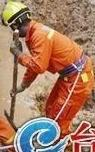gloves: (8, 41, 32, 67), (10, 82, 27, 96)
hard-hat: (0, 0, 31, 27)
